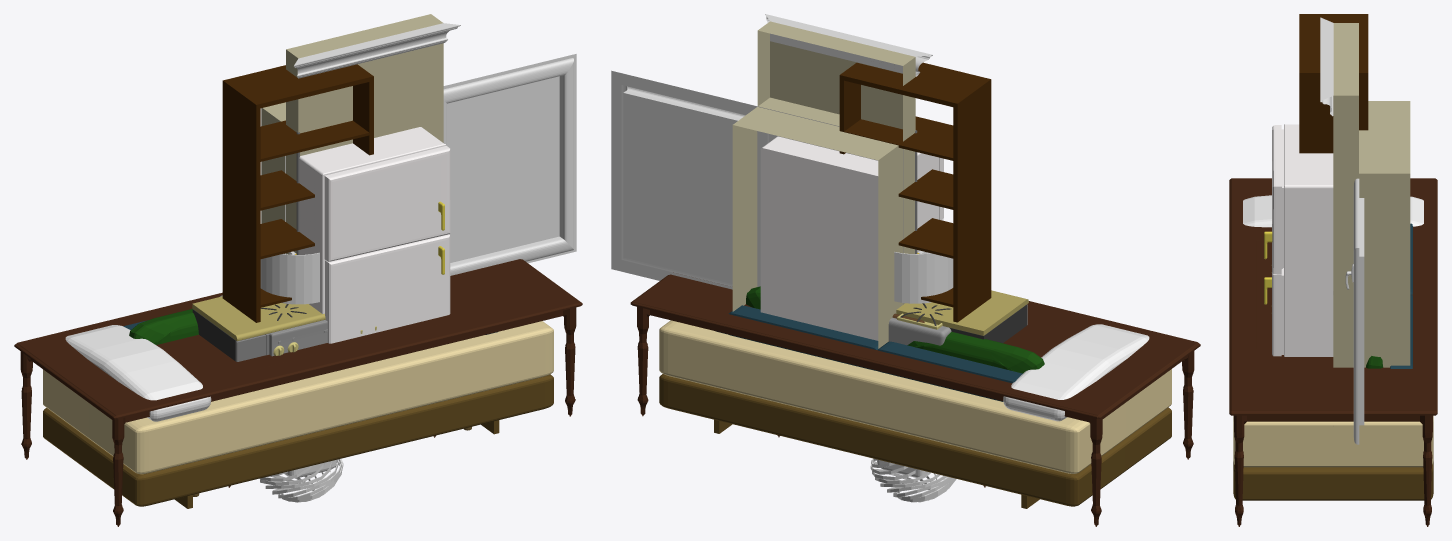
The picture shows the model from 3 angles, left to right: view 1: azimuth 30°, elevation 25°; view 2: azimuth 150°, elevation 25°; view 3: azimuth 270°, elevation 25°; orthographic projection. The views are drawn at different scales.
Visible parts, largest first — view 1: Bed, Fridge, Window.Double, DiningTableLong, Bookshelf, WallWindowGrove, WallDoors, WallSolid, Kitchen.Cabinet.Triple, WallWindow, LampFreestanding, DiningTable (+4 smaller); view 2: Bed, Window.Double, Fridge, DiningTableLong, Bookshelf, WallWindowGrove, WallSolid, Sofa, Kitchen.Cabinet.Triple, LampFreestanding, WallDoors, LampHanging (+1 smaller); view 3: DiningTableLong, Bed, Fridge, WallWindowGrove, WallWindow, Bookshelf, Window.Double, WallDoors, DiningTable, WallSolid, Sofa.
Part boxes in pixels (left/top/right/bottom): Bed: left=43, top=321, right=553, bottom=508; Fridge: left=299, top=127, right=450, bottom=343; Window.Double: left=285, top=54, right=576, bottom=275; DiningTableLong: left=14, top=259, right=582, bottom=526; Bookshelf: left=222, top=64, right=373, bottom=322; WallWindowGrove: left=261, top=14, right=460, bottom=254; WallDoors: left=274, top=37, right=447, bottom=132; WallSolid: left=294, top=23, right=460, bottom=155; Kitchen.Cabinet.Triple: left=192, top=296, right=325, bottom=361; WallWindow: left=294, top=25, right=460, bottom=133; LampFreestanding: left=260, top=251, right=319, bottom=304; DiningTable: left=178, top=318, right=443, bottom=487; Bed: left=659, top=320, right=1171, bottom=508; Window.Double: left=611, top=70, right=903, bottom=304; Fridge: left=760, top=136, right=943, bottom=340; DiningTableLong: left=630, top=272, right=1200, bottom=526; Bookshelf: left=839, top=62, right=991, bottom=322; WallWindowGrove: left=732, top=21, right=919, bottom=348; WallSolid: left=765, top=14, right=932, bottom=129; Sofa: left=716, top=286, right=1044, bottom=401; Kitchen.Cabinet.Triple: left=896, top=290, right=1028, bottom=343; LampFreestanding: left=894, top=250, right=953, bottom=303; WallDoors: left=745, top=97, right=898, bottom=151; LampHanging: left=870, top=130, right=956, bottom=502; DiningTableLong: left=1229, top=178, right=1437, bottom=526; Bed: left=1233, top=195, right=1433, bottom=500; Fridge: left=1264, top=124, right=1333, bottom=356; WallWindowGrove: left=1333, top=23, right=1410, bottom=367; WallWindow: left=1333, top=173, right=1384, bottom=367; Bookshelf: left=1299, top=14, right=1368, bottom=153; Window.Double: left=1345, top=178, right=1364, bottom=444; WallDoors: left=1359, top=101, right=1384, bottom=173; DiningTable: left=1256, top=240, right=1271, bottom=348; WallSolid: left=1320, top=17, right=1333, bottom=294; Sofa: left=1366, top=223, right=1412, bottom=368.
Bounding box in the file's own units: 362 × 288 × 121.
